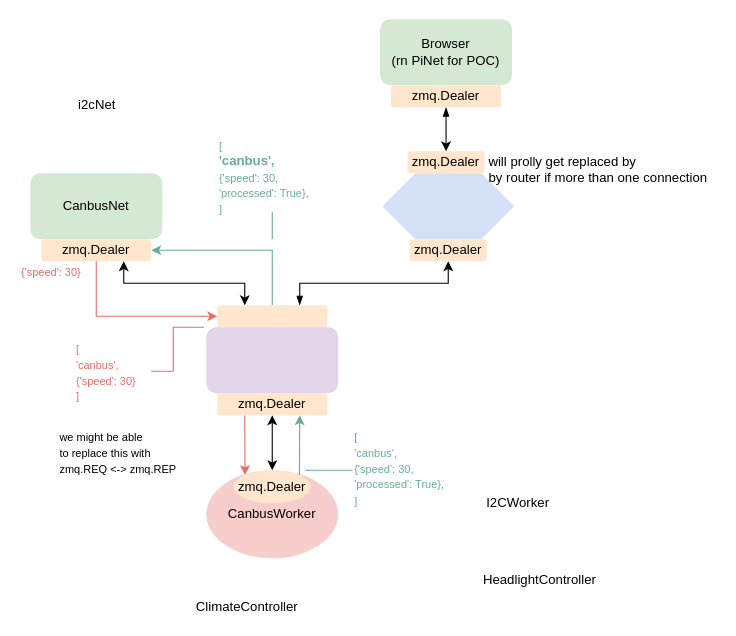
This 736x636 diagram has some shape labels left out. Each missing label, with the centre of its shape:
BrowserProxy: (448,206)
CoreServer: (272,360)
zmq.Router: (272,316)
